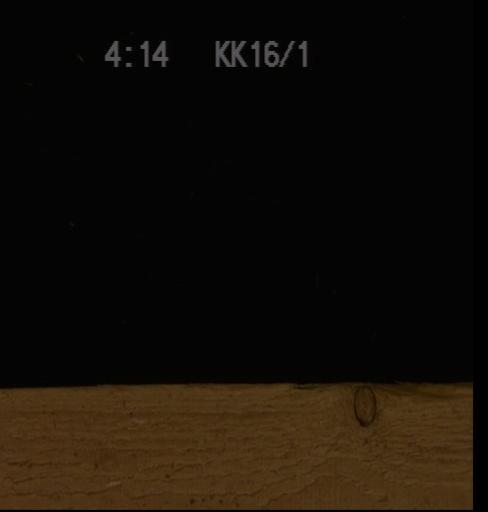dry_knot: (351, 384, 376, 425)
wave: (290, 379, 472, 391)
